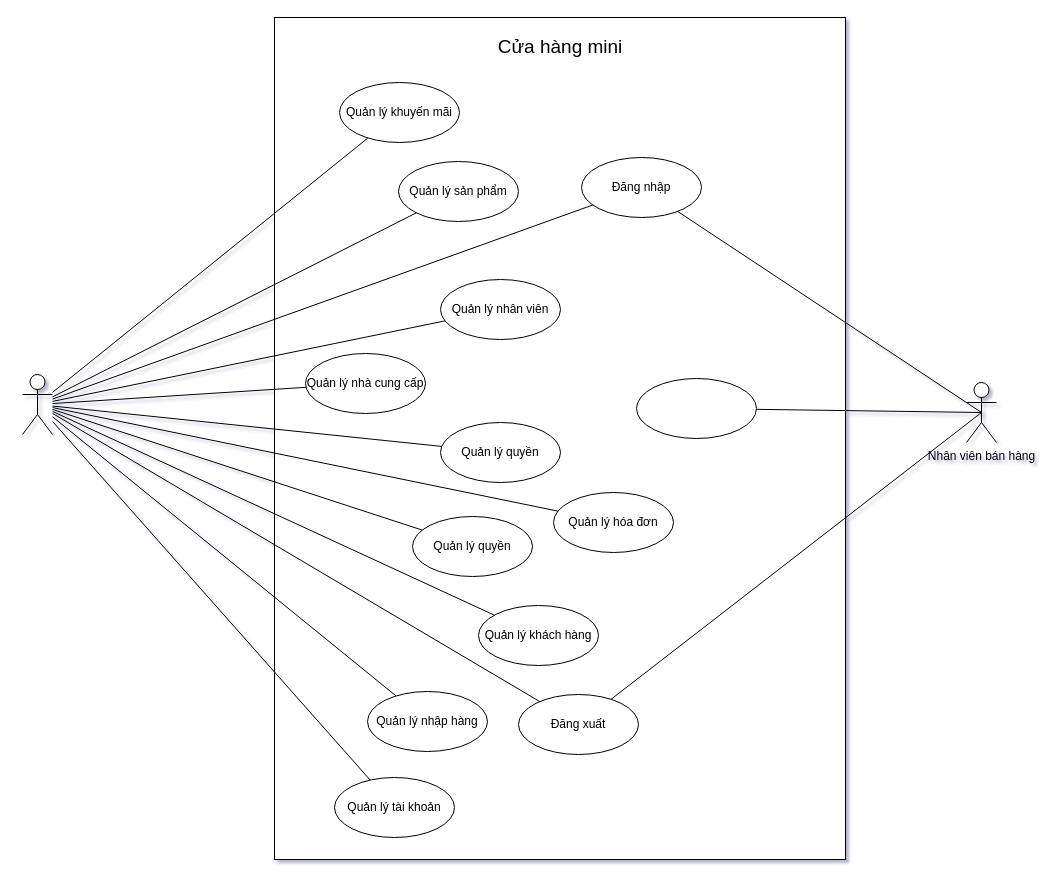
This 1058x883 diagram has some shape labels left out. Each missing label, with the centre of its shape:
Bán hàng: (696,408)
Quản lý: (37,404)
